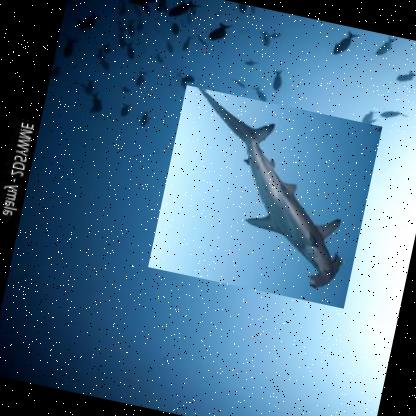hammerhead_Shark: (147, 82, 382, 308)
